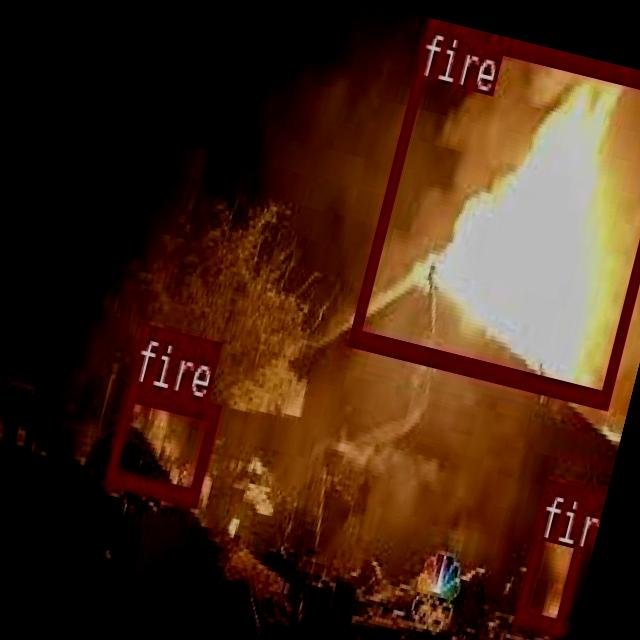fire: (347, 17, 640, 403), (104, 381, 218, 501), (512, 477, 594, 633)
